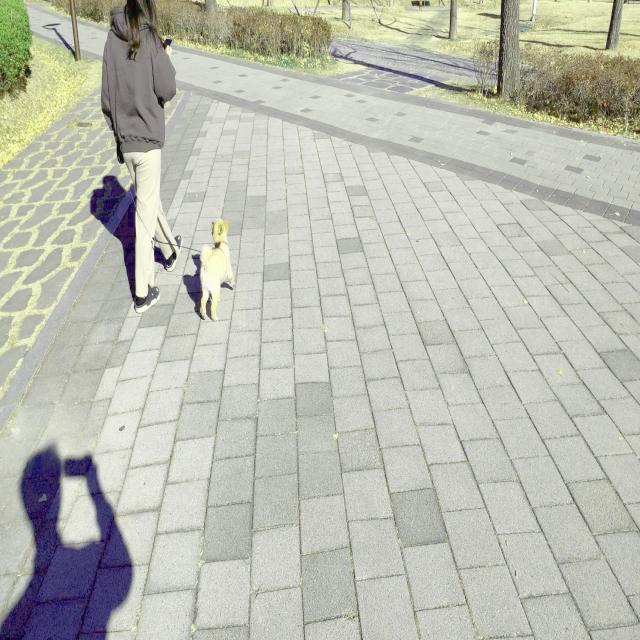Leashed_Dog: (137, 208, 237, 322)
